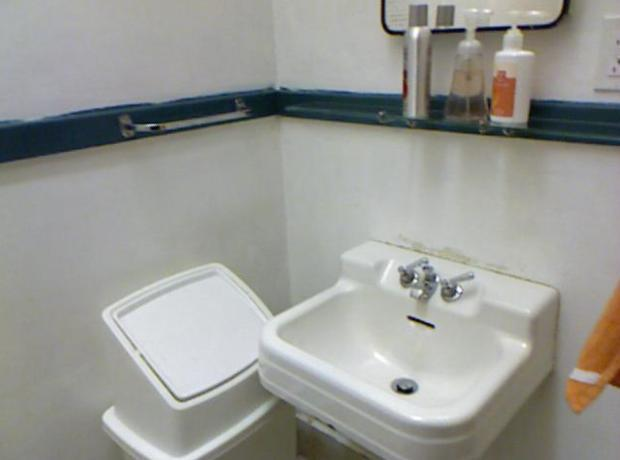Bote de Basura: (101, 265, 298, 459)
Lavamanos: (256, 229, 550, 453)
